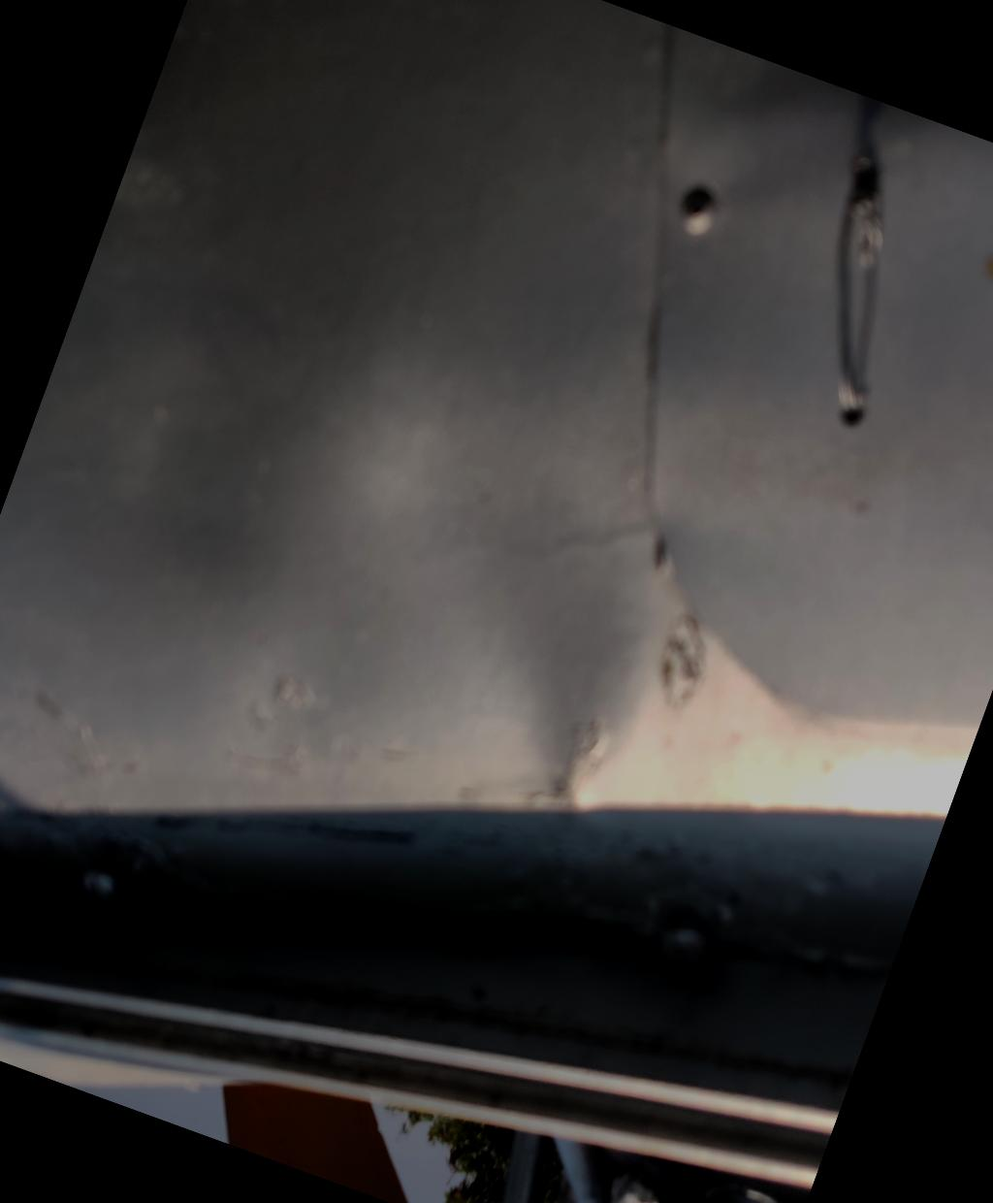dent: (236, 332, 797, 912)
